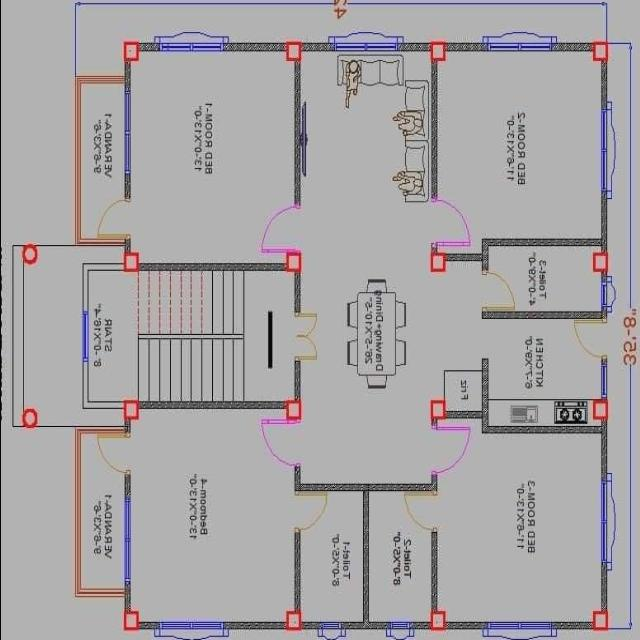Blueprint: (109, 28, 623, 640)
column: (426, 38, 448, 64), (282, 396, 302, 422), (284, 249, 304, 275), (120, 38, 140, 64), (122, 249, 140, 276), (282, 40, 302, 64), (428, 397, 446, 423), (590, 248, 608, 274), (284, 609, 303, 633), (590, 398, 609, 422), (590, 39, 609, 63), (122, 396, 140, 421), (591, 608, 609, 632), (428, 608, 446, 632), (122, 608, 140, 632), (428, 252, 446, 274)
wall: (292, 481, 438, 493), (136, 400, 288, 410), (137, 262, 287, 272), (479, 236, 603, 248), (292, 58, 301, 208), (480, 310, 608, 320), (429, 58, 438, 200), (480, 424, 602, 434), (362, 486, 369, 624), (220, 41, 288, 52), (599, 187, 609, 256), (292, 528, 300, 614), (220, 620, 286, 630), (444, 40, 488, 53), (481, 357, 488, 435), (338, 620, 392, 630), (395, 40, 432, 54), (550, 41, 594, 52), (442, 252, 482, 264), (600, 56, 608, 112), (550, 620, 594, 630), (599, 559, 607, 613), (431, 530, 436, 614), (600, 417, 606, 484), (443, 410, 483, 420), (480, 234, 490, 274), (442, 622, 488, 630), (300, 42, 336, 52), (293, 358, 301, 402), (292, 270, 300, 314), (123, 578, 131, 614), (123, 59, 131, 95), (407, 620, 431, 631), (123, 470, 131, 502), (136, 620, 160, 630), (136, 42, 160, 52), (122, 172, 130, 200), (300, 620, 322, 630), (292, 465, 300, 485), (123, 416, 131, 436), (124, 237, 132, 255), (429, 417, 438, 431)
